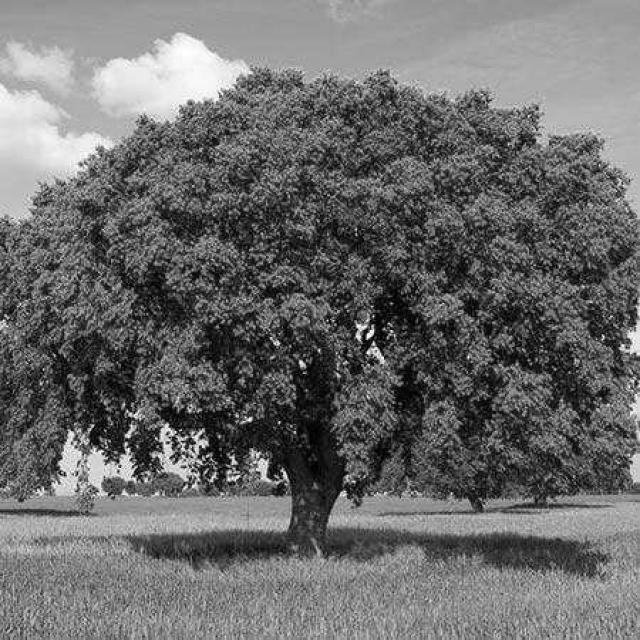Tree: (0, 69, 640, 554)
